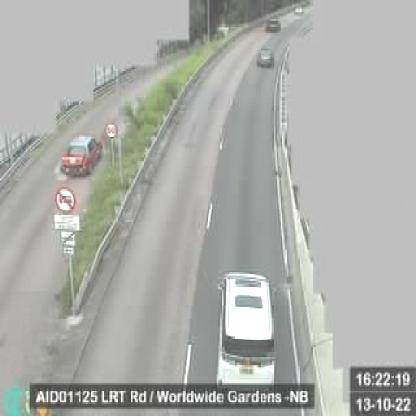Car: (220, 264, 276, 382), (61, 132, 101, 179), (256, 46, 273, 66), (267, 17, 282, 33)
